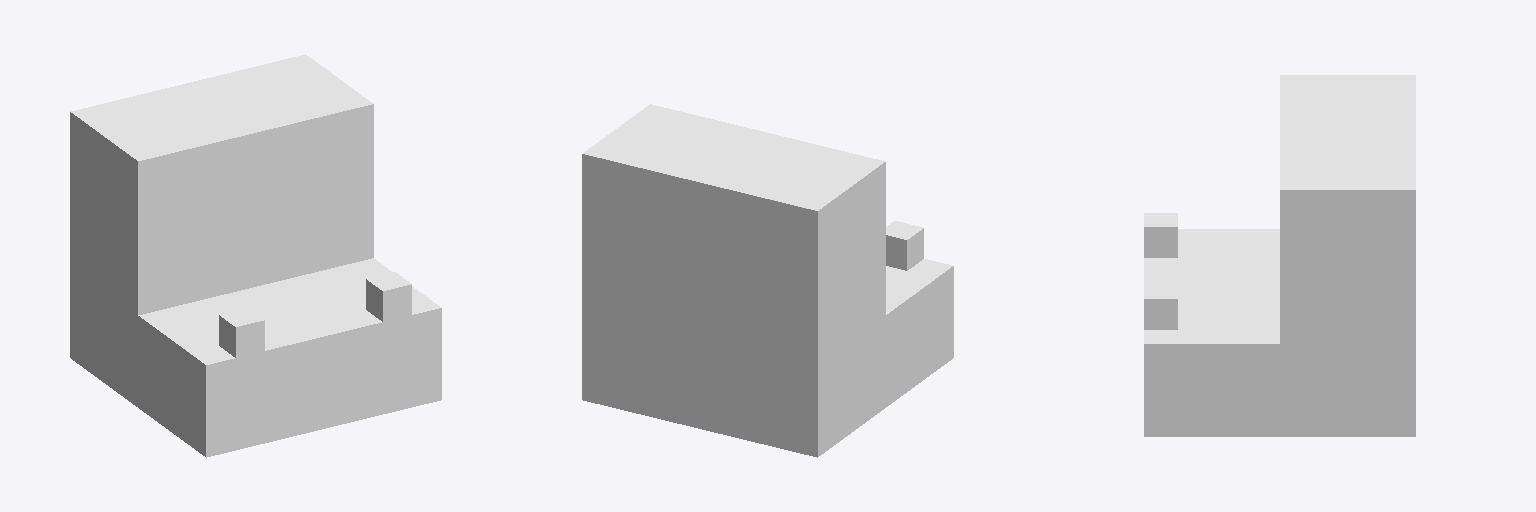
Rendered from Crocodile.obj.
3 views of the same model, side by side, from view 1: azimuth 30°, elevation 25°; view 2: azimuth 150°, elevation 25°; view 3: azimuth 270°, elevation 25° (orthographic).
Visible parts, largest first — view 1: Crocodile; view 2: Crocodile; view 3: Crocodile.
Boxes of the visible parts, <box> form: Crocodile: <box>70,54,441,457</box>; Crocodile: <box>582,104,953,457</box>; Crocodile: <box>1144,75,1415,436</box>.
Size of the model in its own units: 40 by 40 by 40.